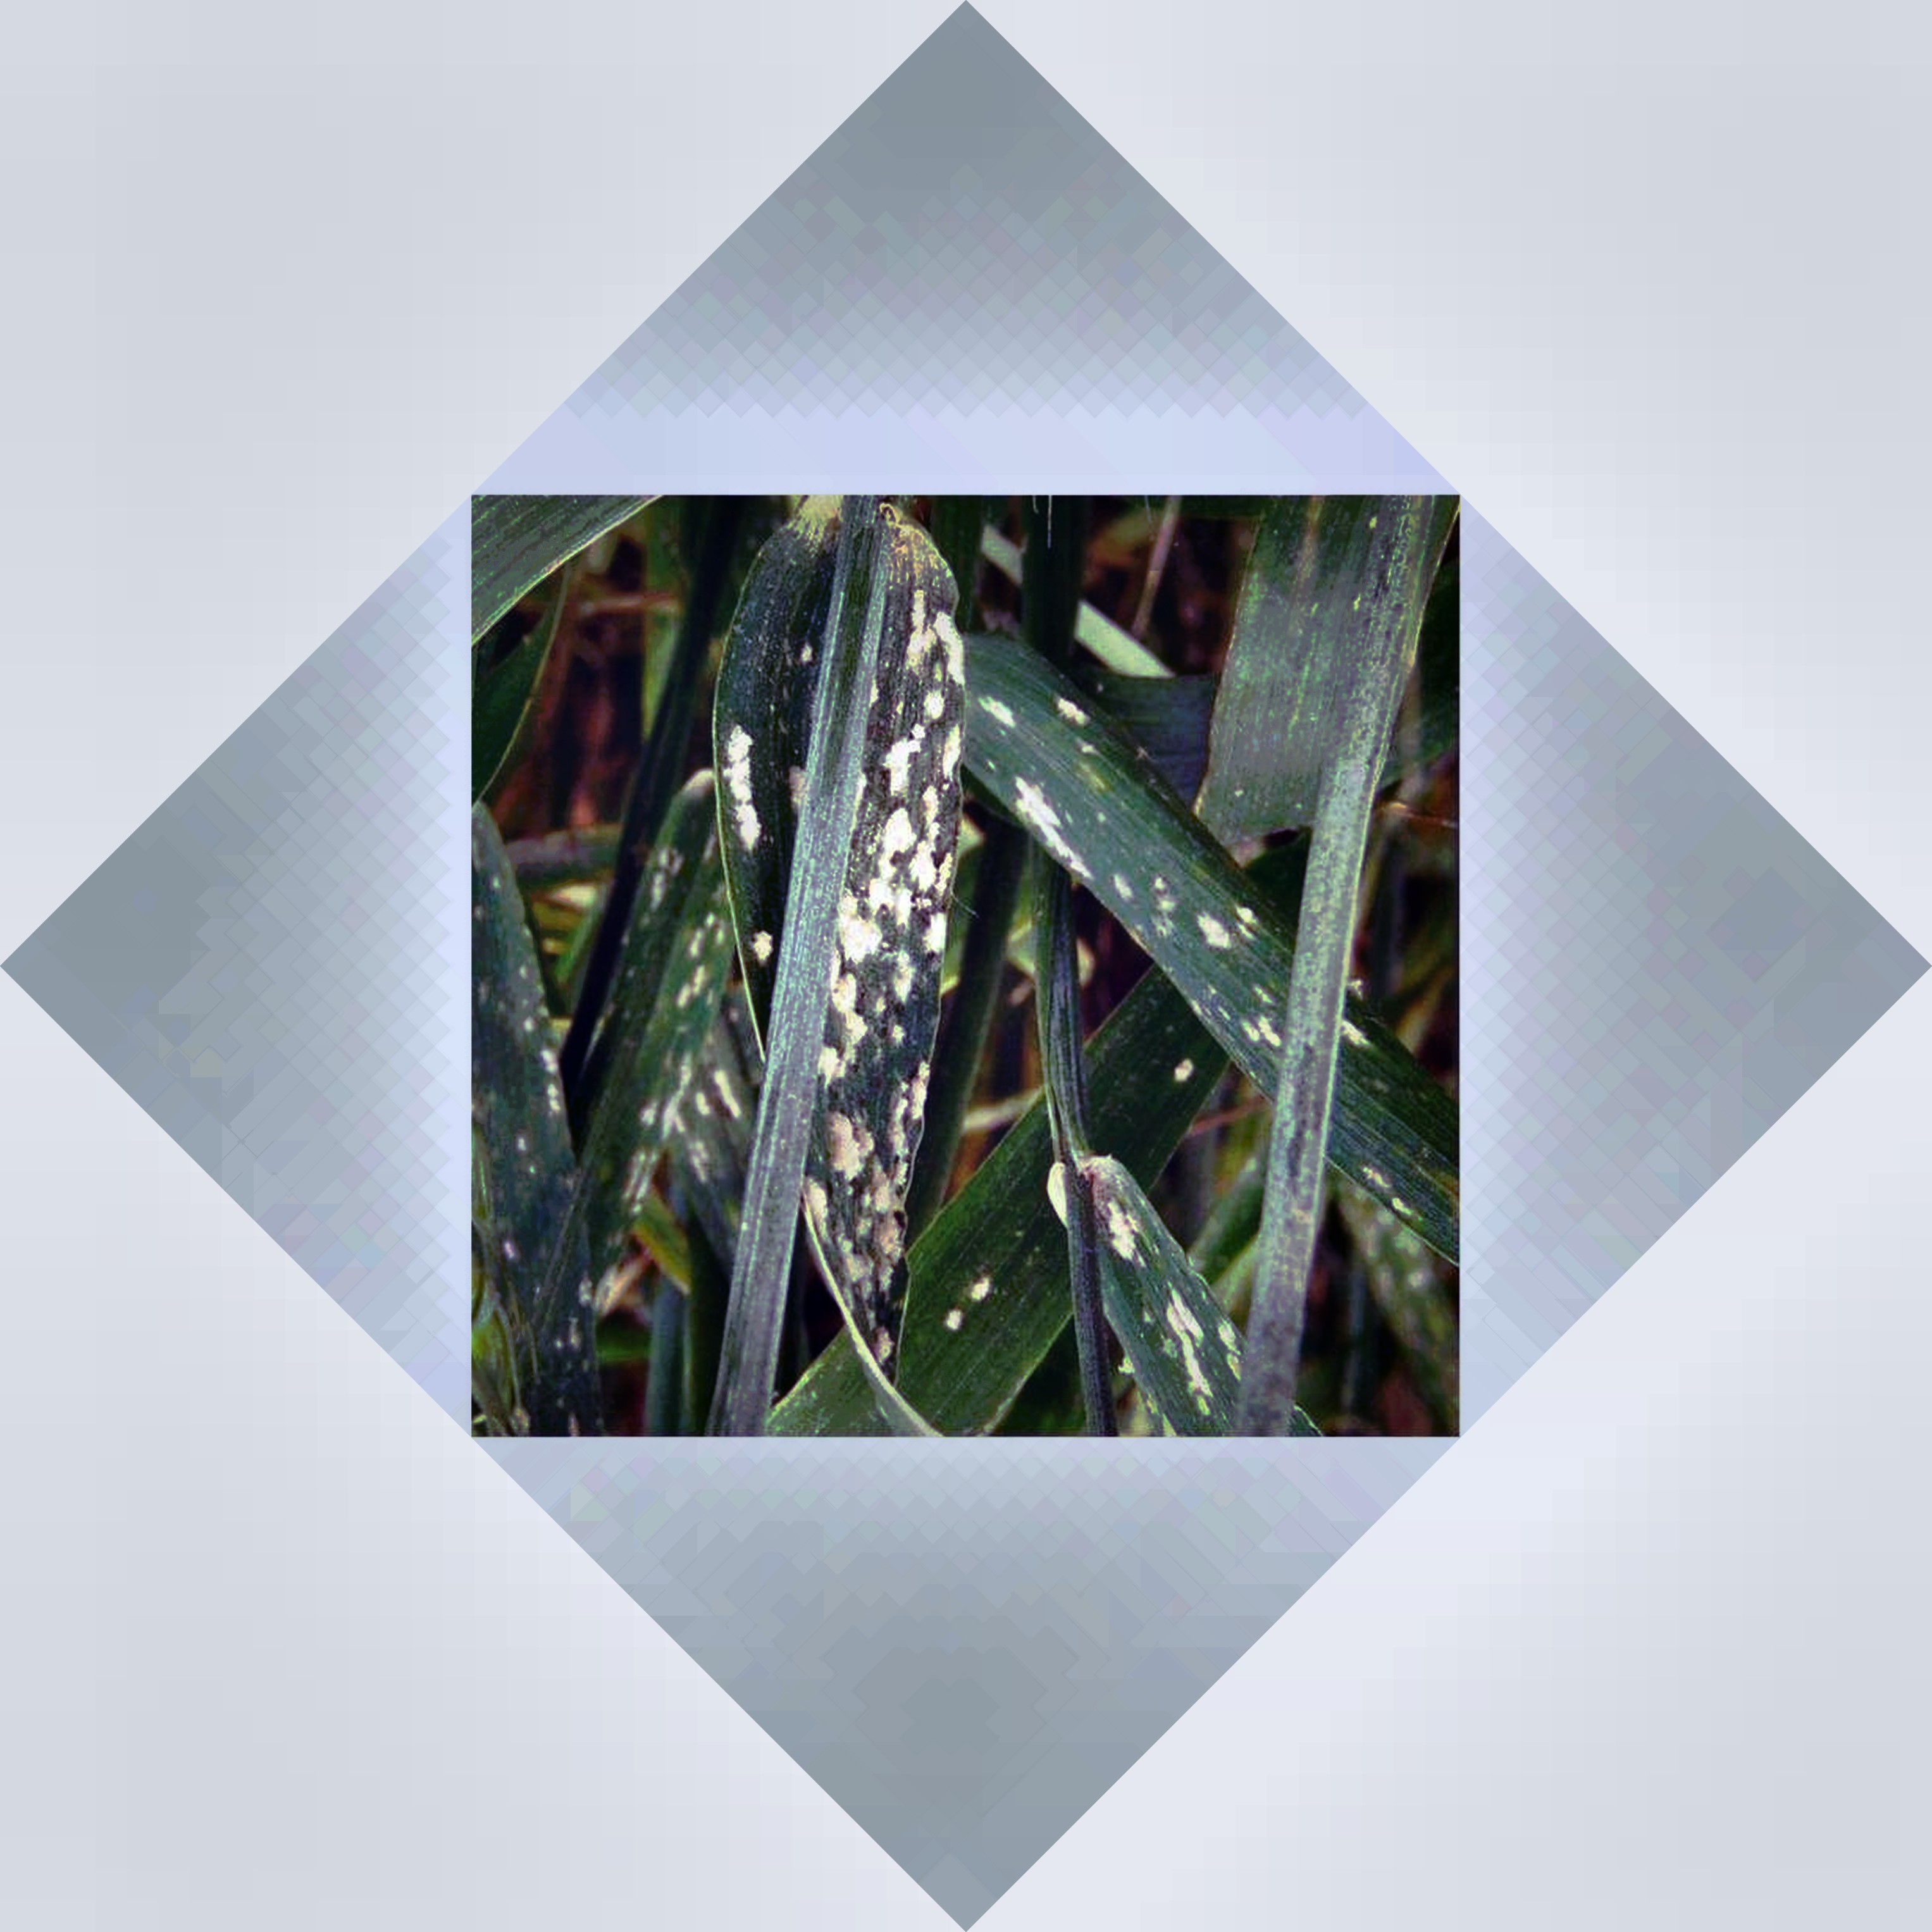Powdery Mildew: (740, 598, 952, 1307)
